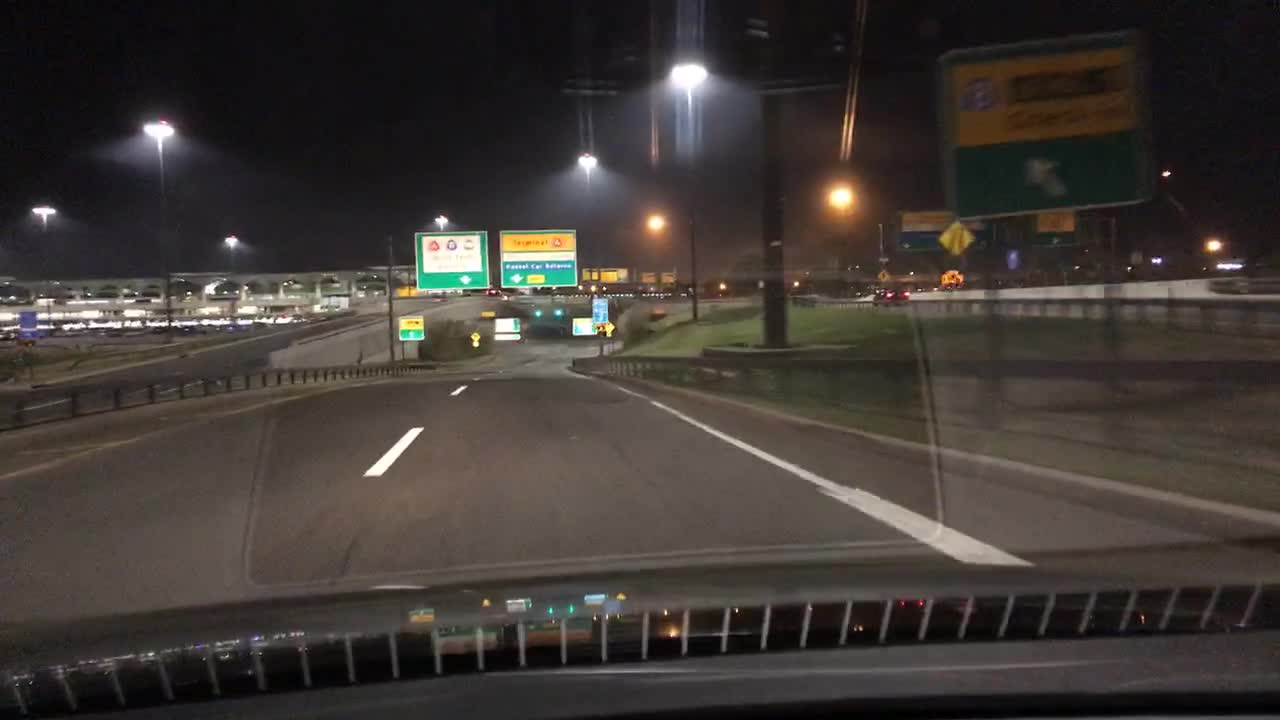car: (530, 304, 569, 337), (0, 319, 56, 340), (347, 271, 400, 290), (204, 278, 242, 300), (140, 282, 192, 298), (827, 280, 869, 298), (875, 288, 908, 305), (0, 284, 28, 304), (40, 284, 74, 300), (701, 280, 727, 300), (790, 280, 816, 296), (226, 313, 251, 328), (277, 278, 302, 292), (166, 317, 197, 328), (90, 317, 118, 329), (63, 320, 90, 332), (94, 285, 118, 298), (197, 317, 224, 327), (122, 316, 144, 328), (145, 316, 166, 328), (319, 275, 343, 285), (253, 315, 275, 325), (118, 286, 138, 297), (243, 278, 255, 294), (275, 313, 291, 324), (430, 291, 447, 301), (290, 312, 305, 322), (486, 287, 504, 295), (461, 289, 471, 296)
traffic sign: (947, 32, 1152, 214), (415, 231, 490, 288), (500, 230, 577, 285), (899, 210, 996, 252), (1034, 210, 1077, 244), (937, 221, 973, 257), (399, 316, 424, 340), (572, 319, 597, 334), (591, 298, 607, 321), (494, 319, 520, 331), (494, 332, 519, 341), (602, 321, 616, 333), (467, 331, 481, 341), (878, 270, 891, 279), (480, 310, 496, 317)
